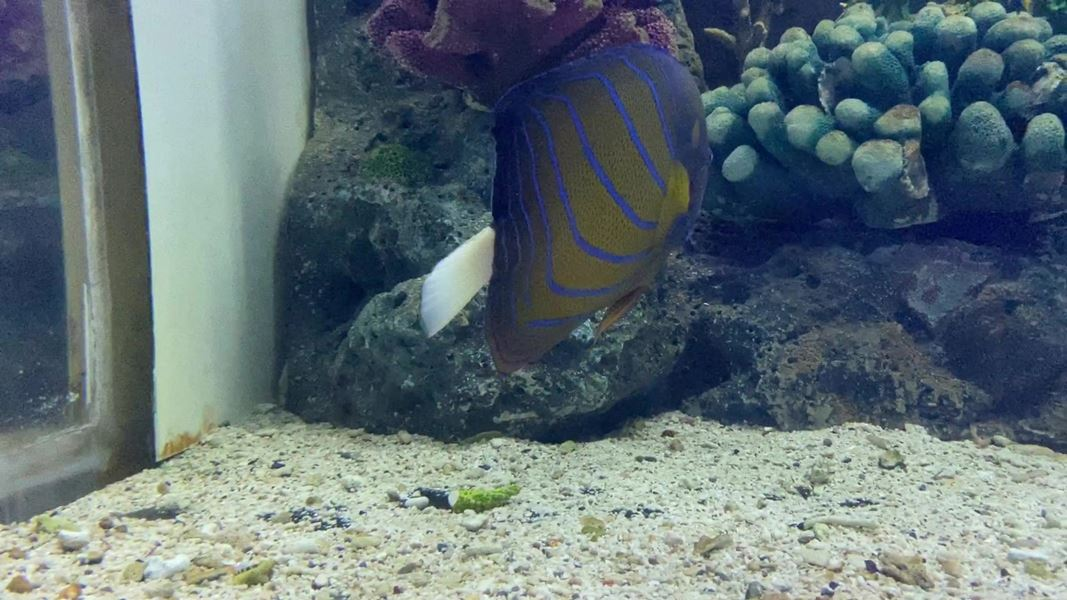Blue ring angelfish: (396, 41, 737, 387)
